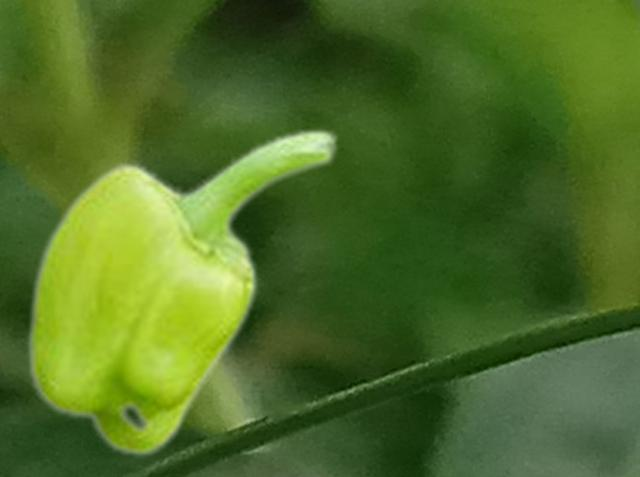bell_pepper: (25, 126, 339, 457)
